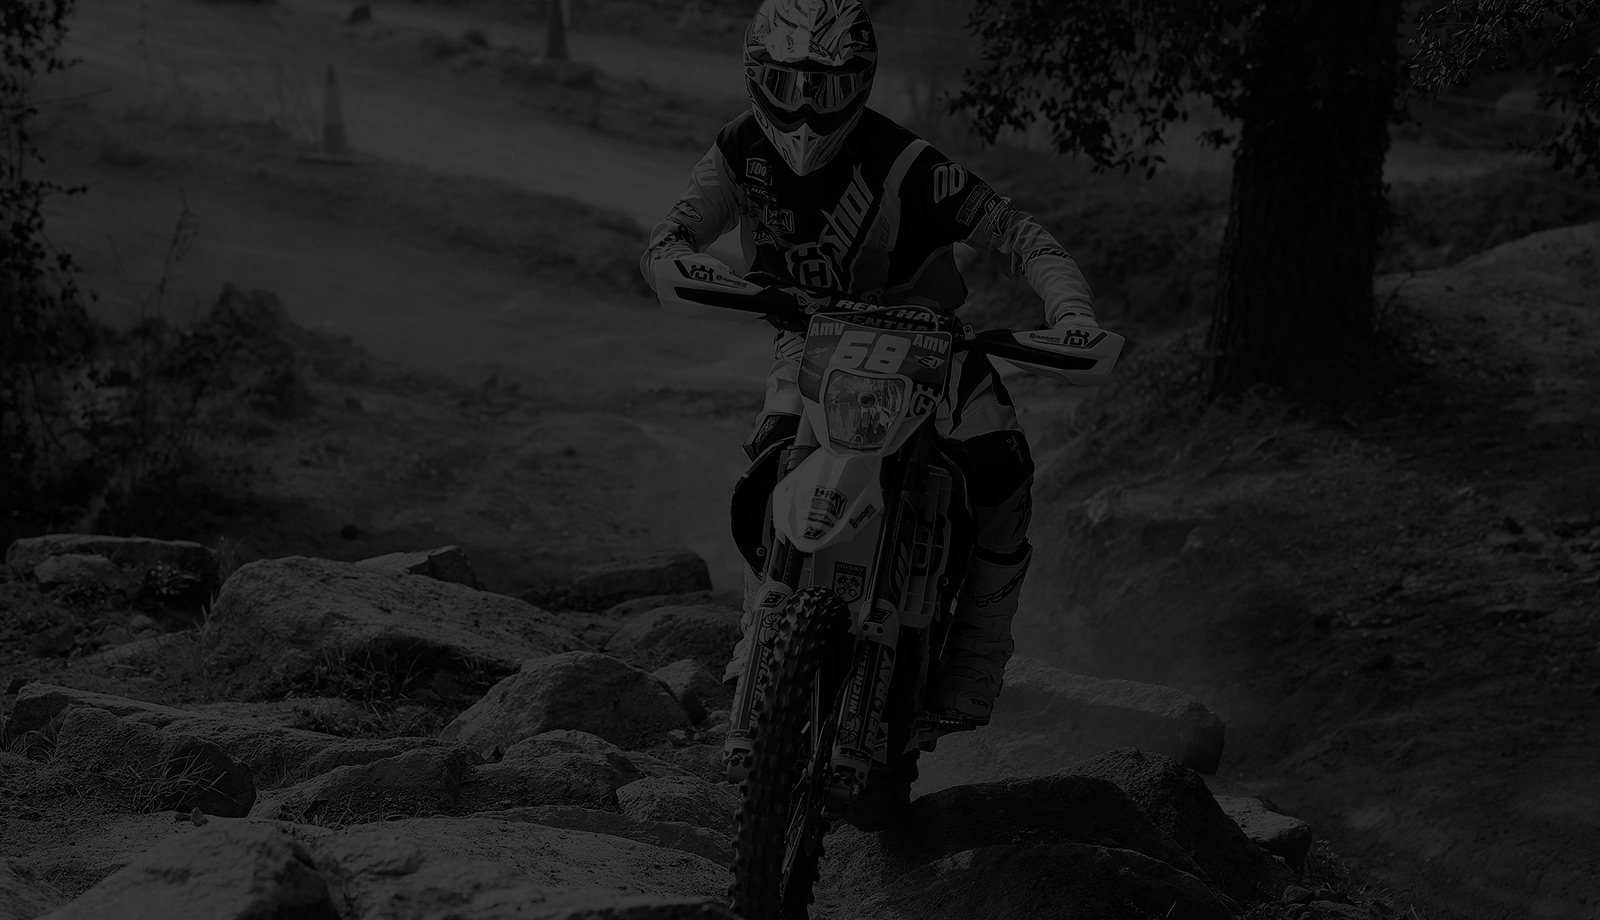helmet: (736, 1, 877, 169)
